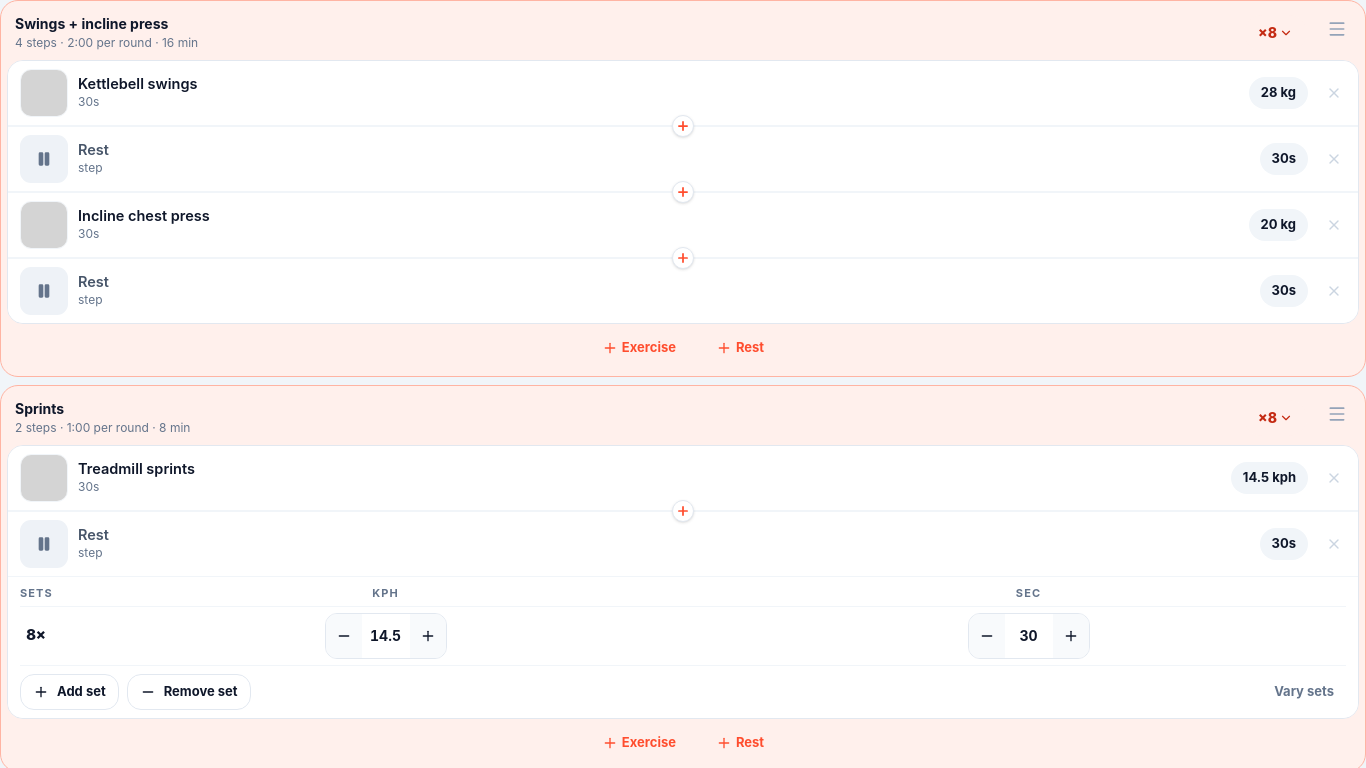
RunsheetList › a block header's grip opens the reorder view
Click the 2nd button named "Reorder blocks": (1337, 414) 1315,392 -> 1359,436
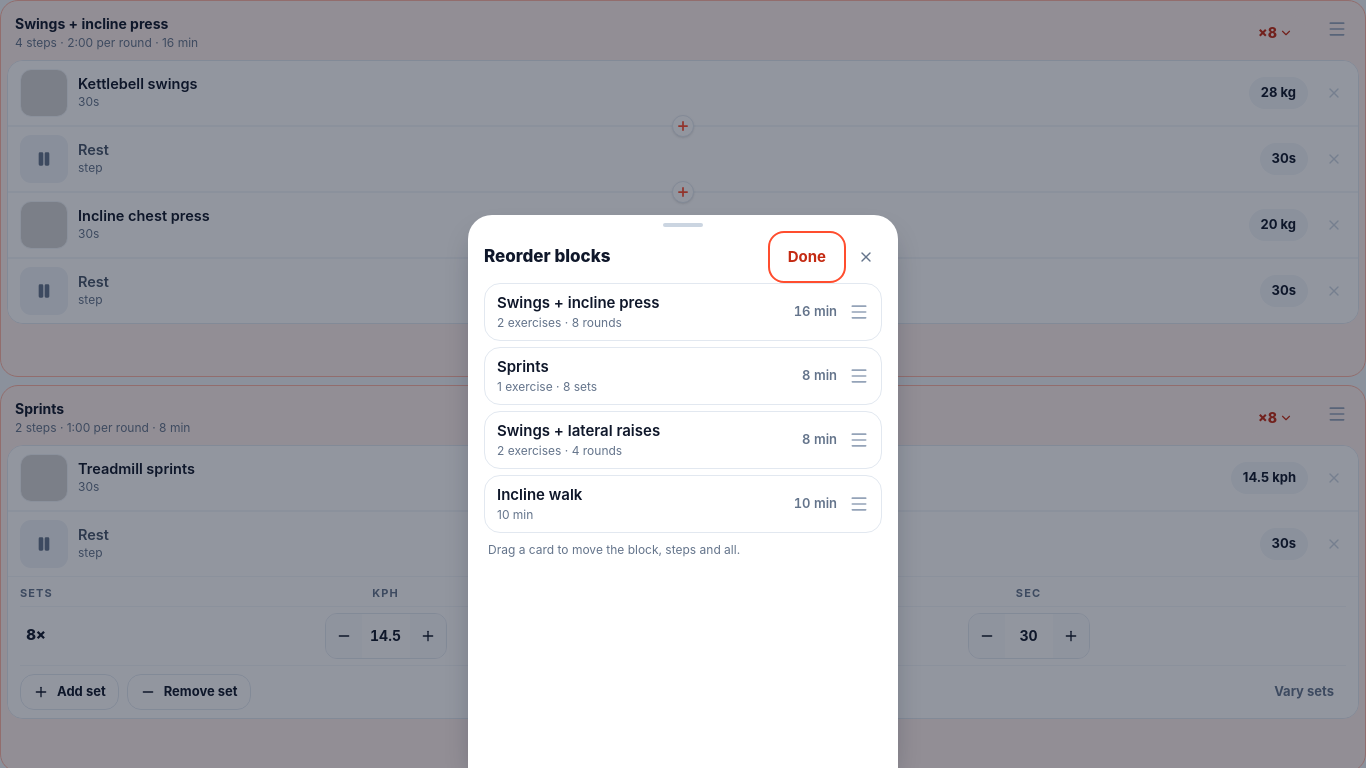
Expected: the dialog "Reorder blocks" is shown, 468,215 -> 898,767
